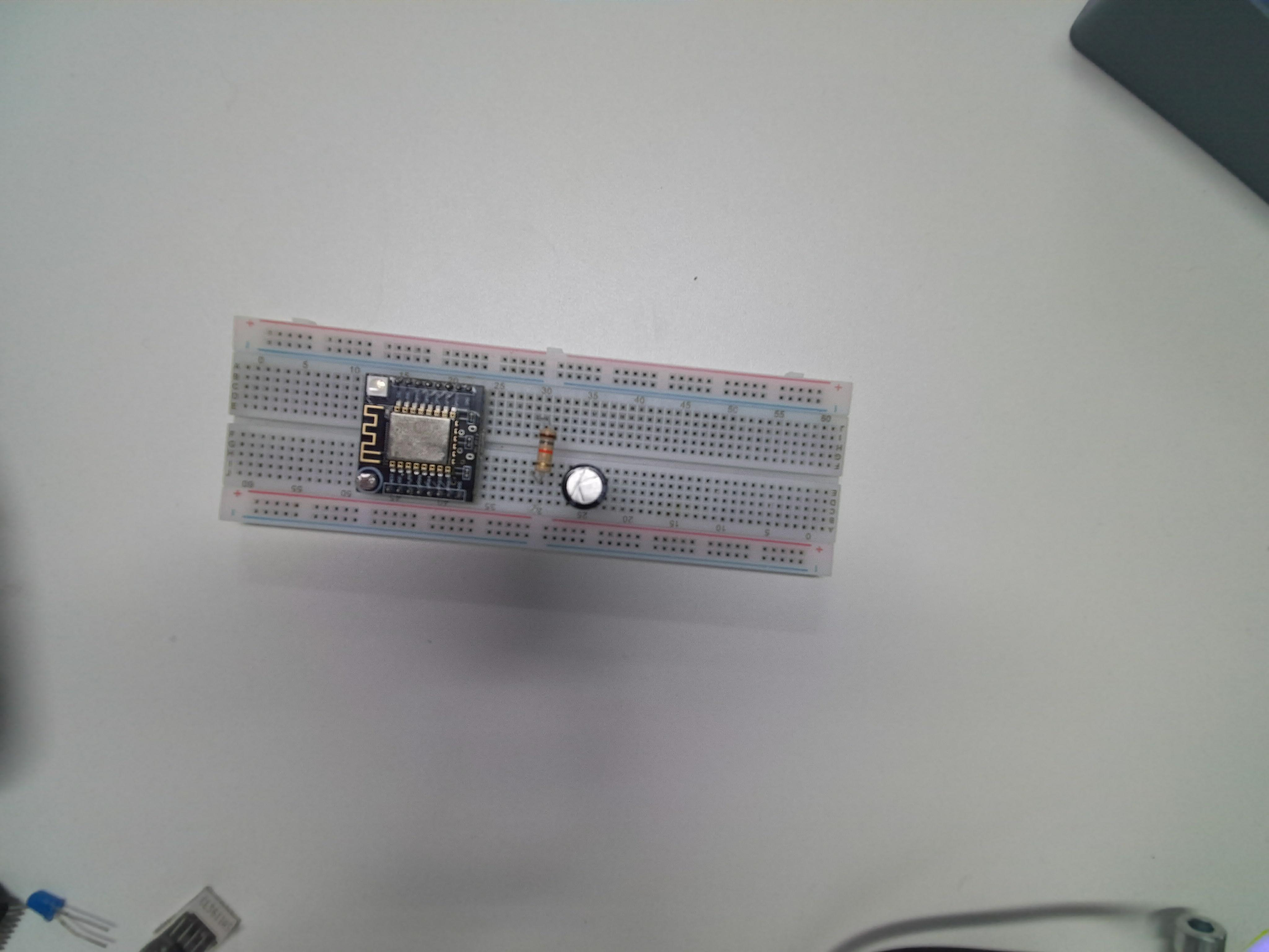base: (219, 315, 856, 579)
blue-led: (22, 886, 68, 927)
capacitor: (564, 464, 607, 509)
esp: (354, 373, 485, 505)
resistor-big: (531, 426, 559, 477)
